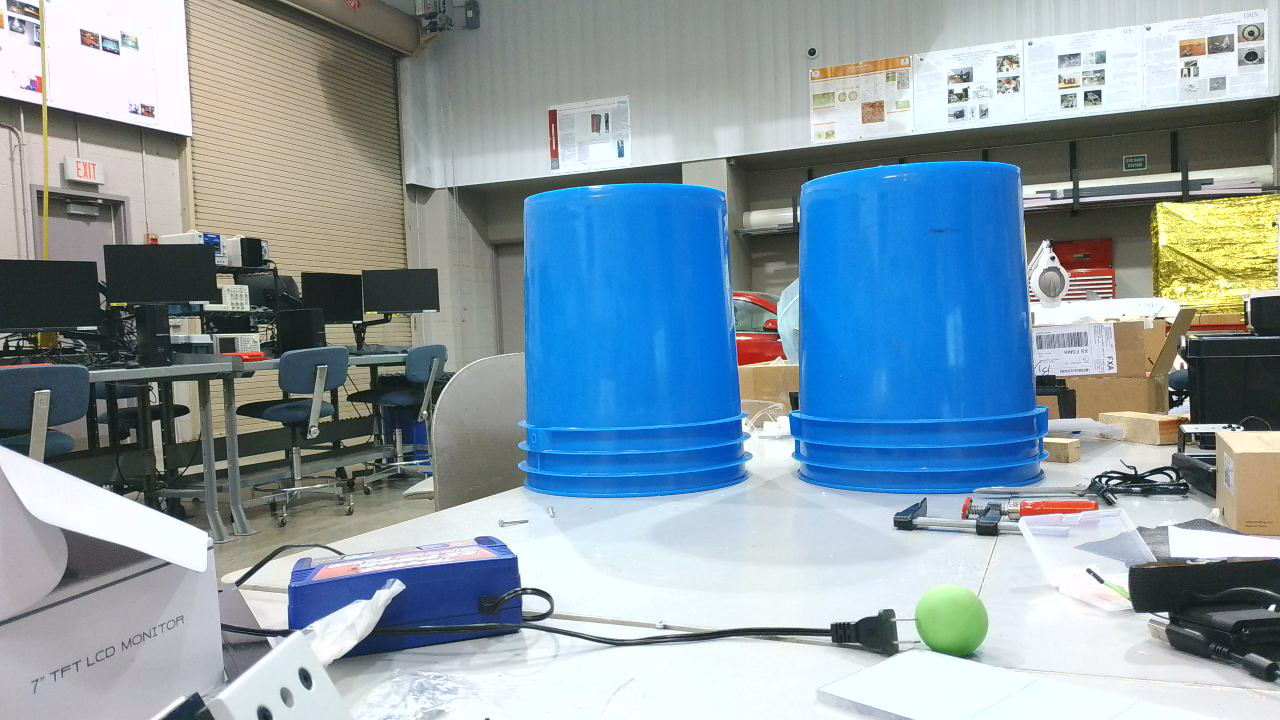blue_bucket: (792, 161, 1059, 504), (517, 185, 762, 507)
